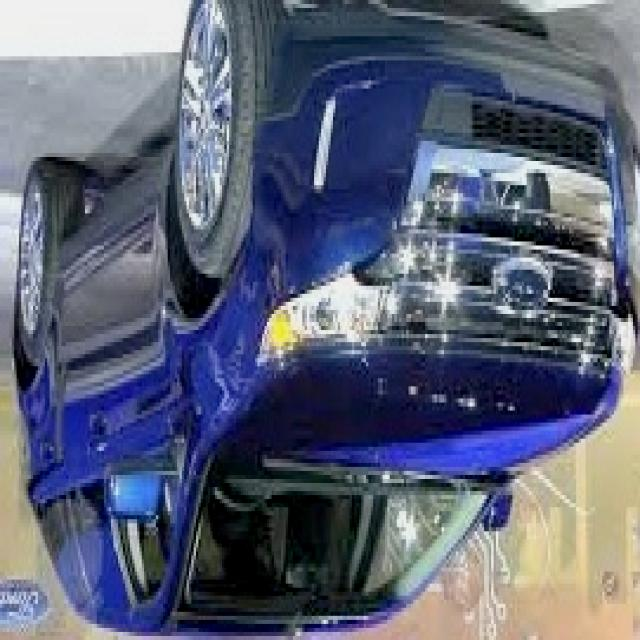blue: (17, 0, 628, 632)
